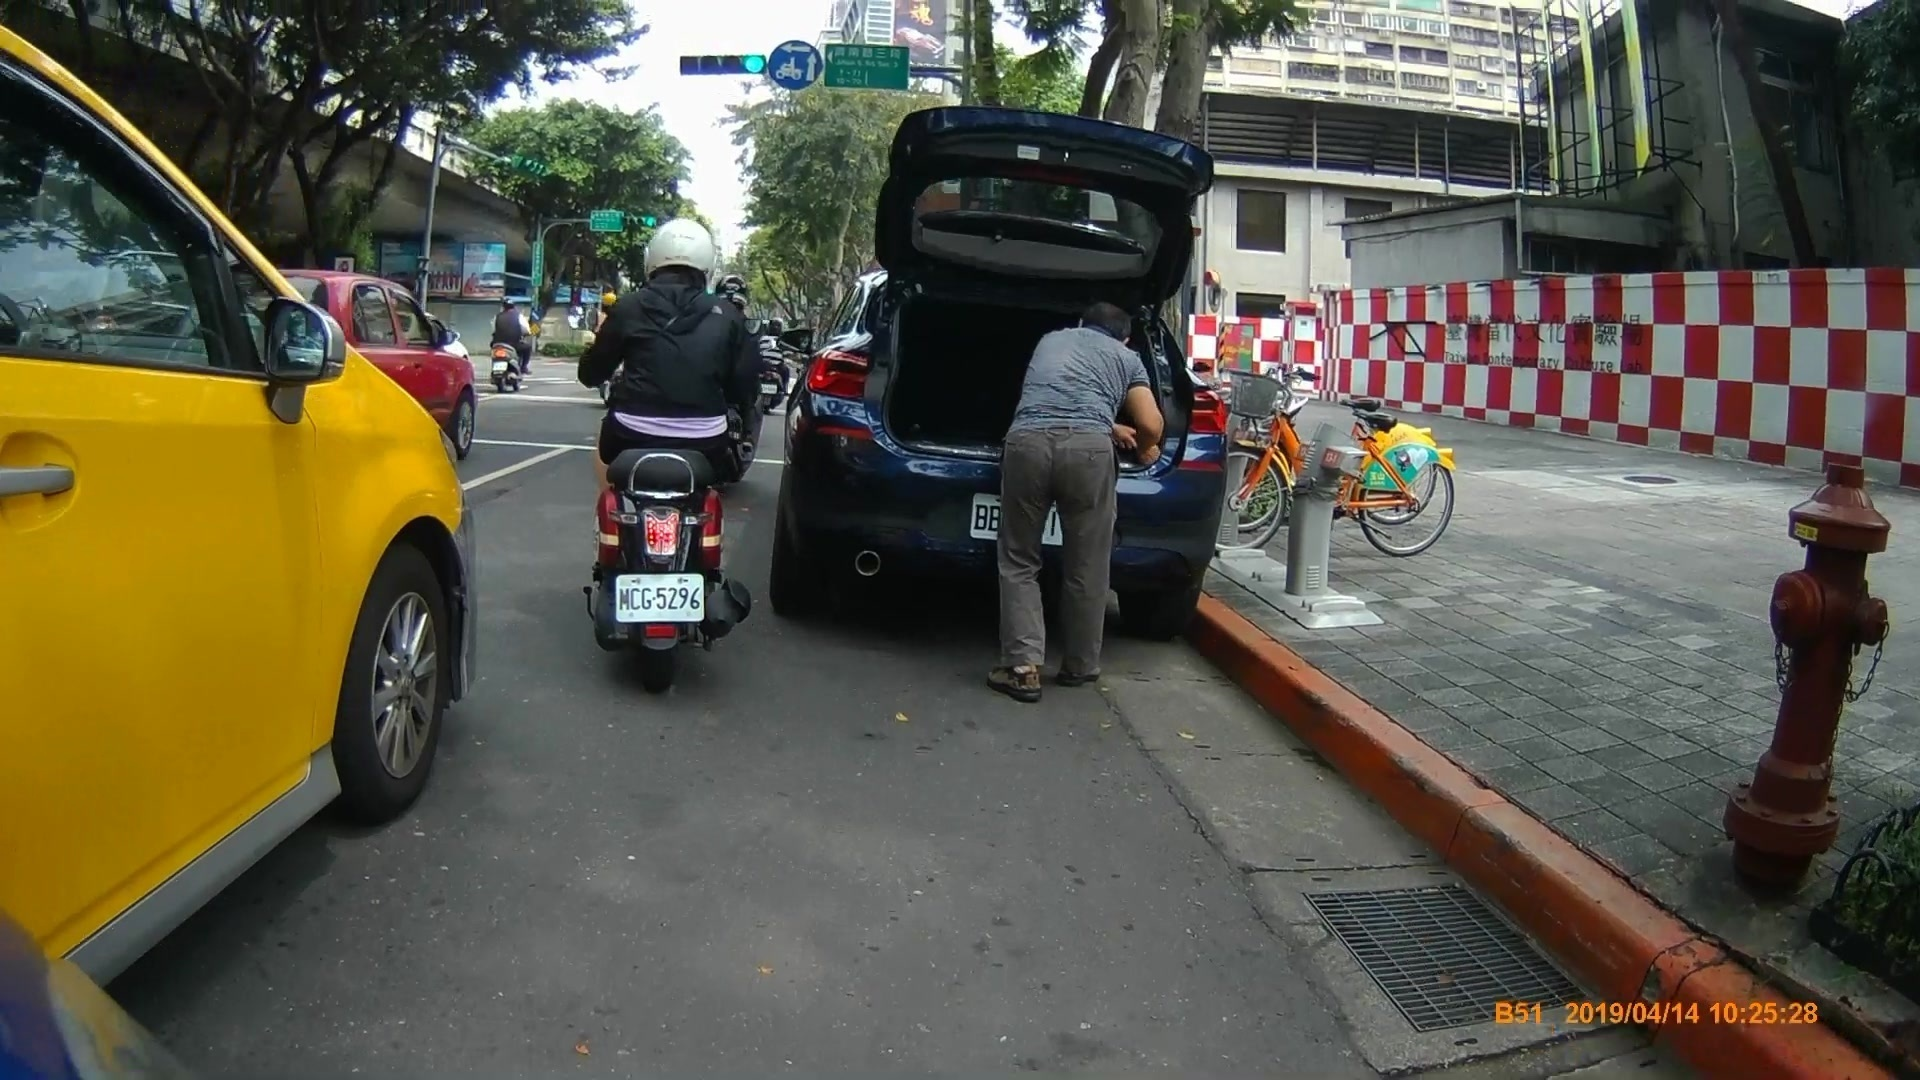License_plate: (616, 573, 709, 622)
